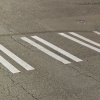crosswalk: (0, 29, 99, 73)
